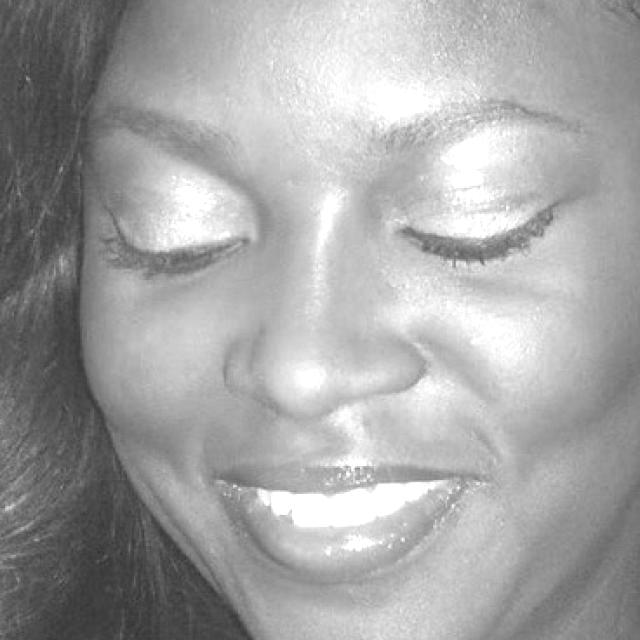real: (76, 39, 622, 607), (107, 162, 569, 304)
